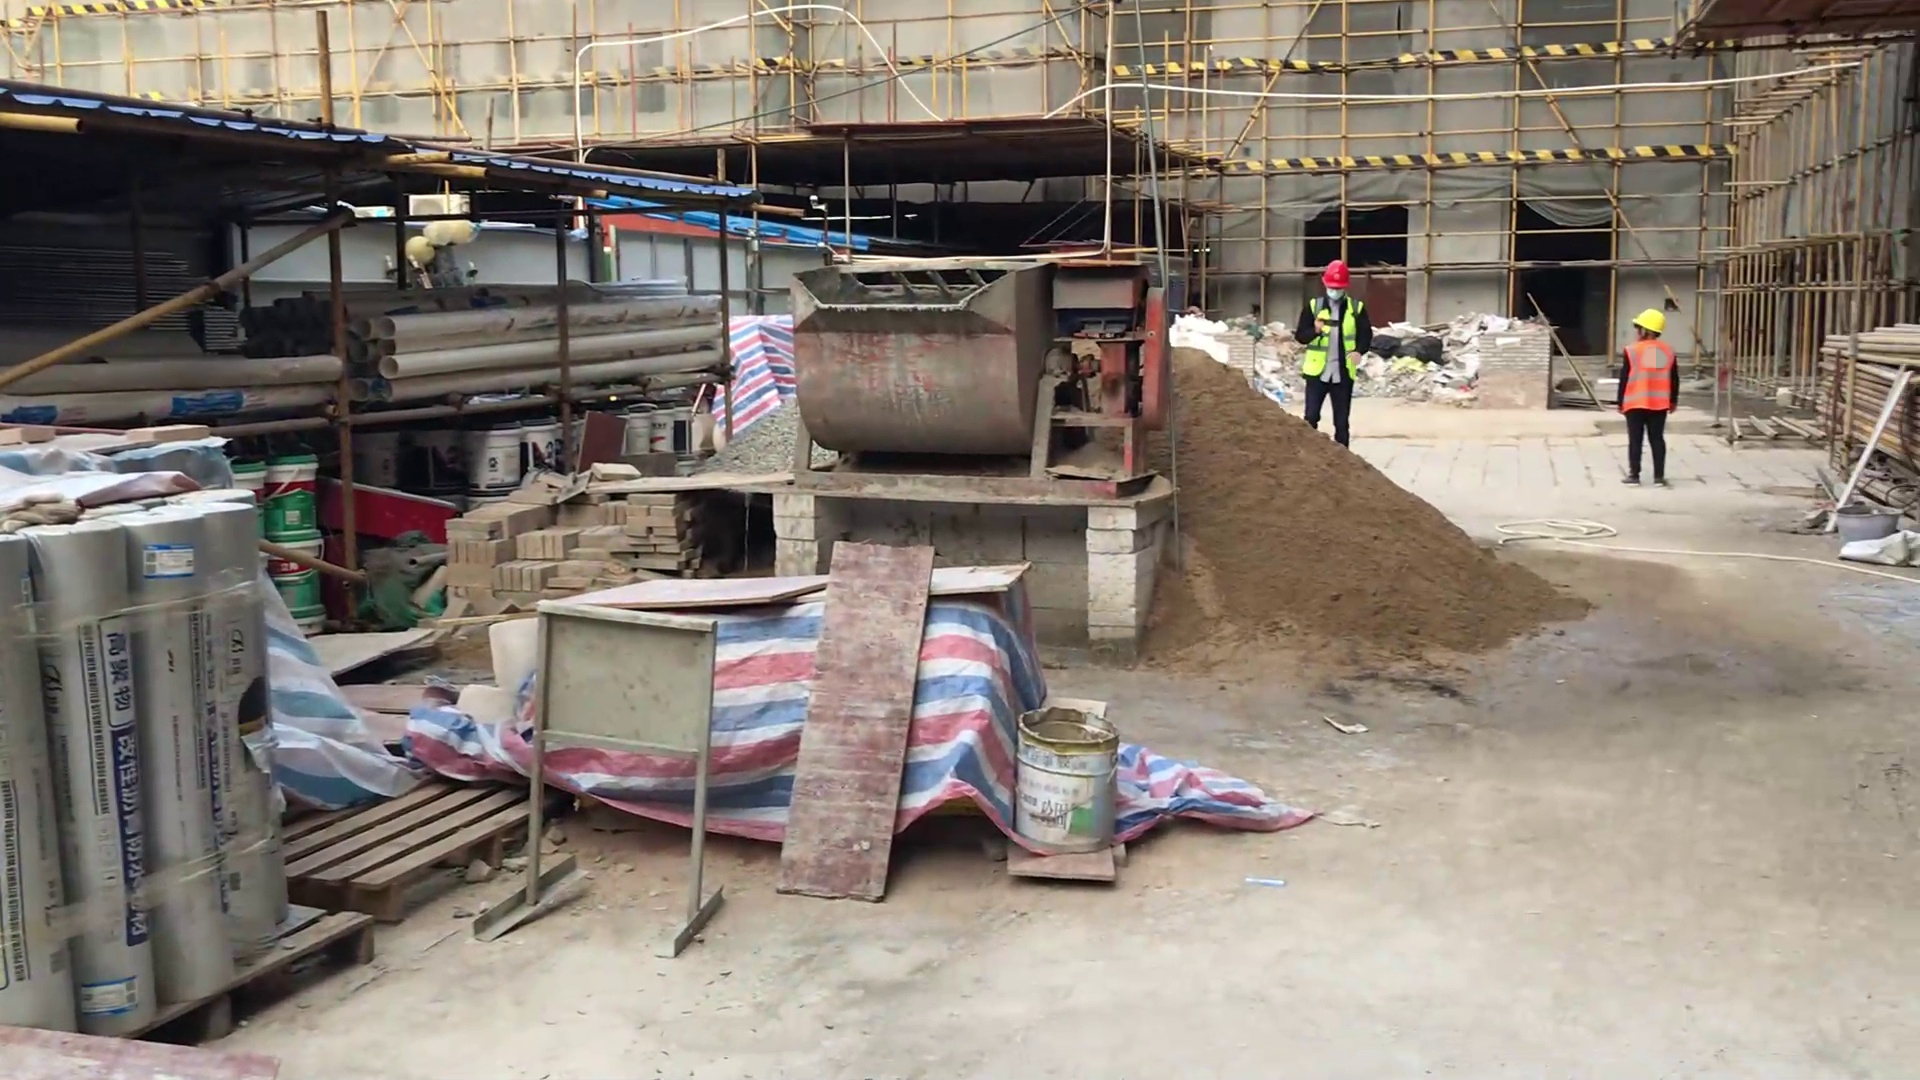helmet: (1314, 248, 1359, 293), (1629, 304, 1671, 346)
person: (1295, 258, 1377, 460), (1607, 305, 1691, 490)
vest: (1622, 334, 1682, 422)
